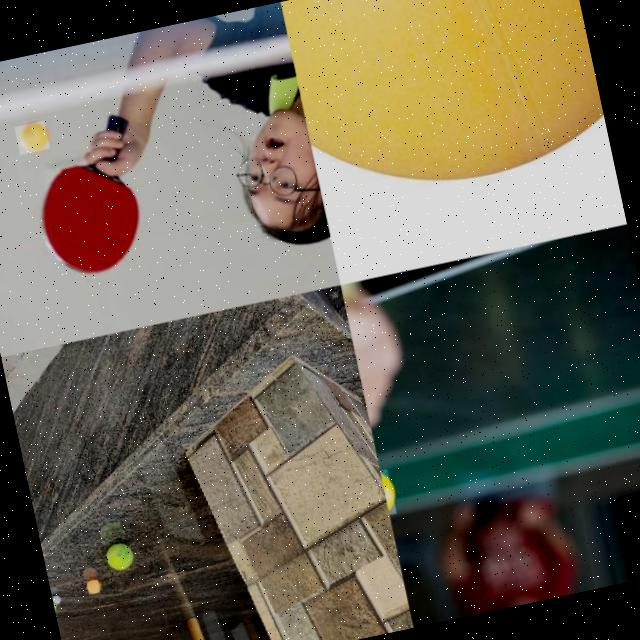ping-pong-ball: (280, 0, 610, 211), (13, 119, 51, 155), (379, 468, 398, 514), (85, 578, 102, 594)
